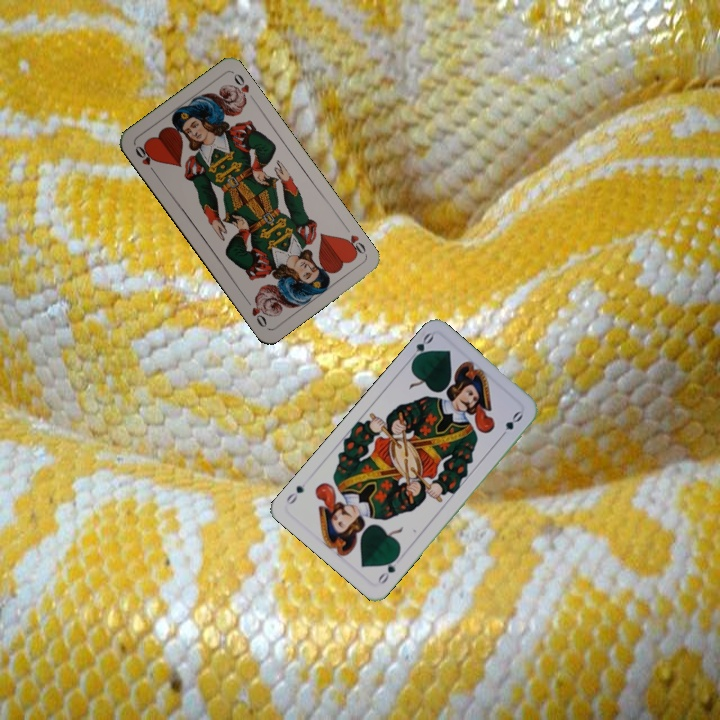GO: (404, 329, 436, 366), (374, 551, 402, 587)
HO: (339, 222, 369, 259), (131, 142, 159, 177)
